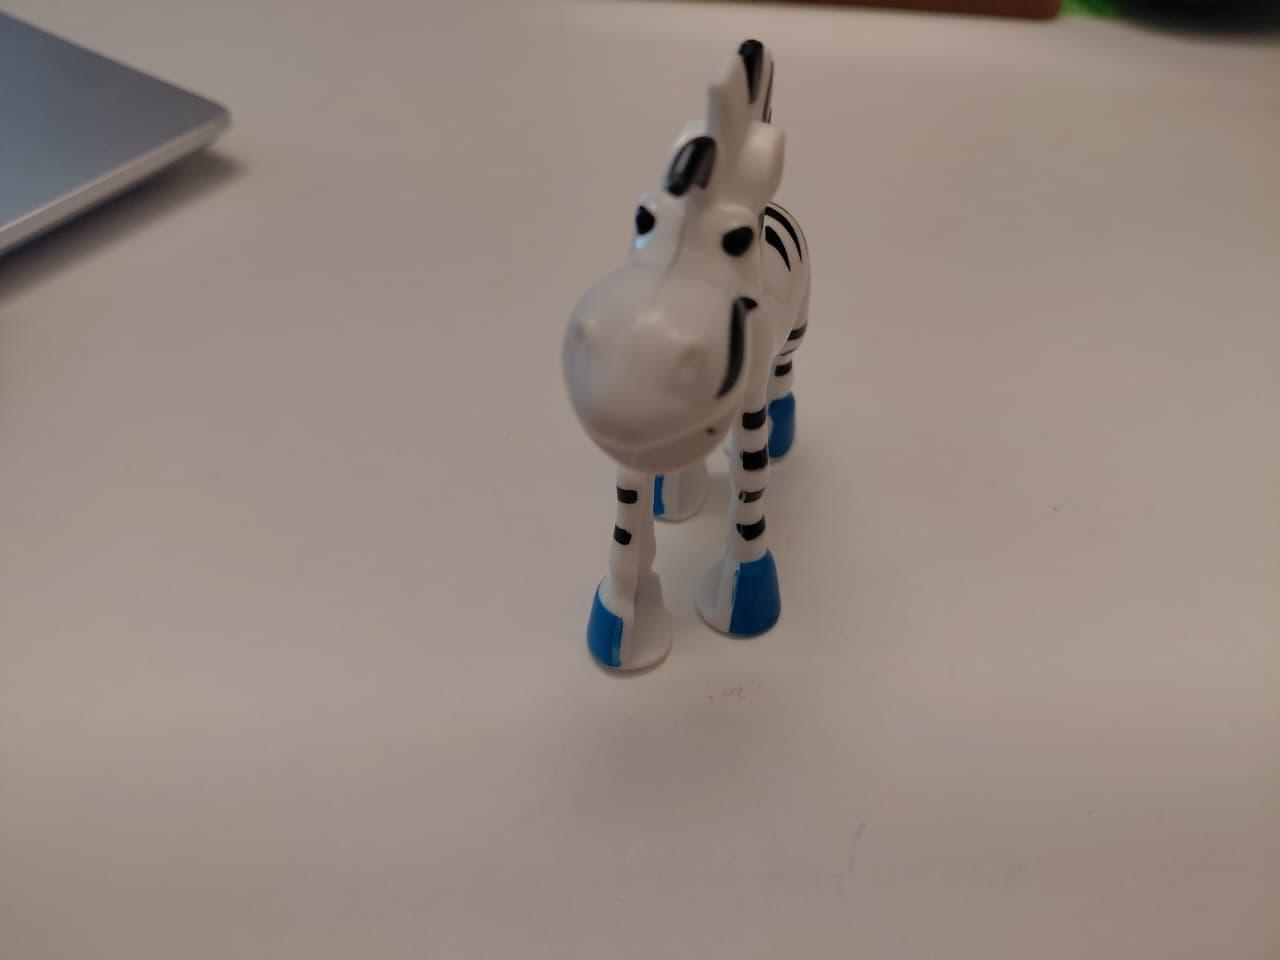zebra: (450, 34, 920, 686)
